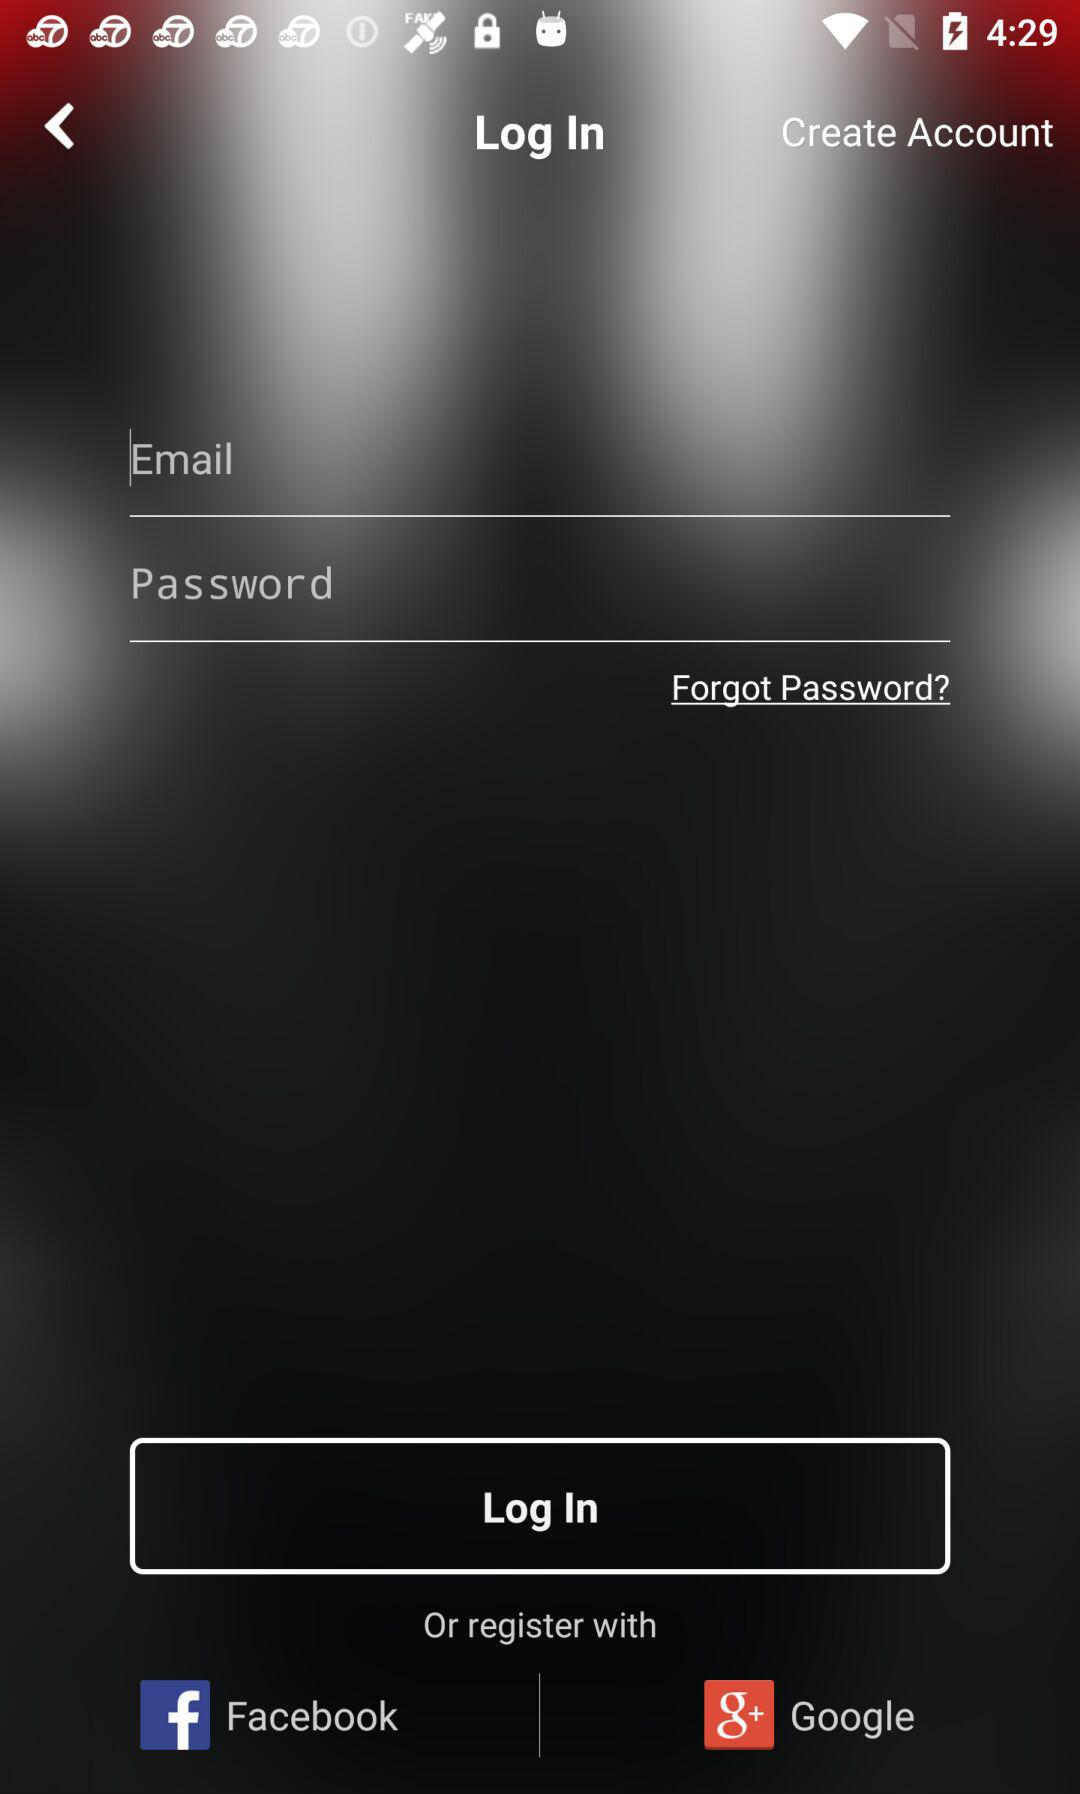EditText: (129, 428, 951, 519), (129, 565, 951, 645)
Icon: (140, 1679, 211, 1750), (705, 1679, 775, 1750), (44, 103, 76, 152)
Text: (671, 673, 952, 709), (423, 1608, 659, 1648), (781, 117, 1054, 150), (133, 566, 332, 602), (477, 115, 603, 161), (229, 1699, 398, 1732), (790, 1699, 915, 1740), (132, 442, 232, 475)
TextButton: (129, 1436, 951, 1576)
UpperTaskBar: (1, 1, 1080, 64)
